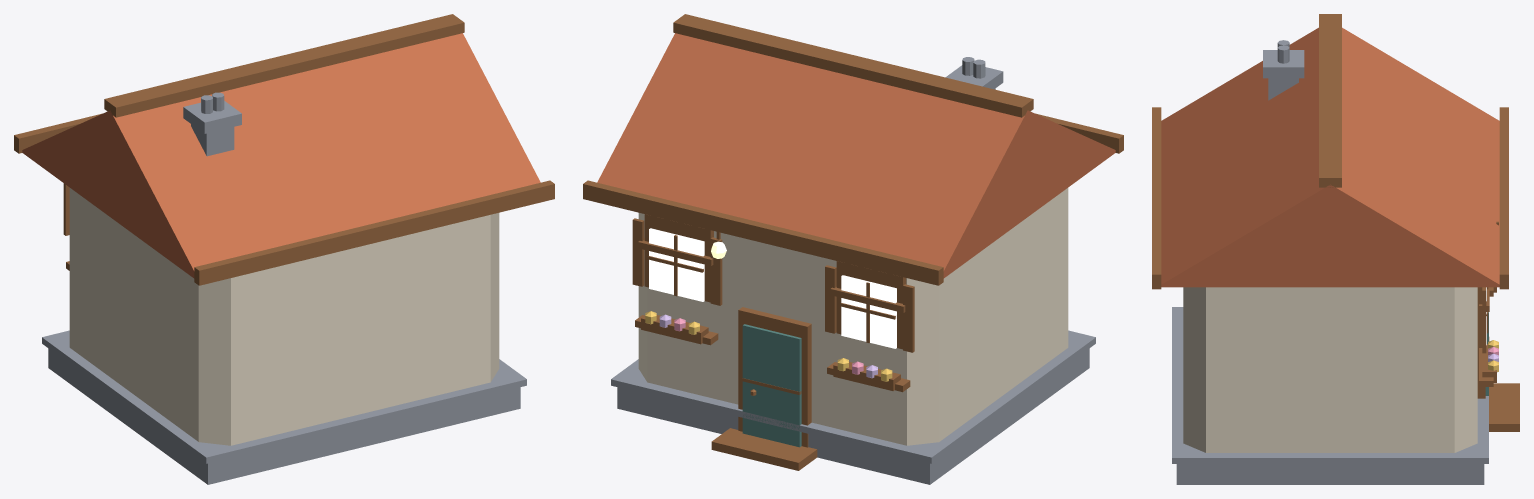
The model's file is xy_house_cottage.glb.
3 views of the same model, side by side, from view 1: azimuth 30°, elevation 25°; view 2: azimuth 150°, elevation 25°; view 3: azimuth 270°, elevation 25° (orthographic). The views are drawn at different scales.
Parts seen in each view (by area): view 1: House; view 2: House; view 3: House.
Part boxes in pixels (x1=…): House: x1=14, y1=14, x2=554, y2=484; House: x1=583, y1=14, x2=1123, y2=484; House: x1=1152, y1=14, x2=1519, y2=484.
Bounding box in the file's own units: 5.92 × 5.3 × 5.51.
